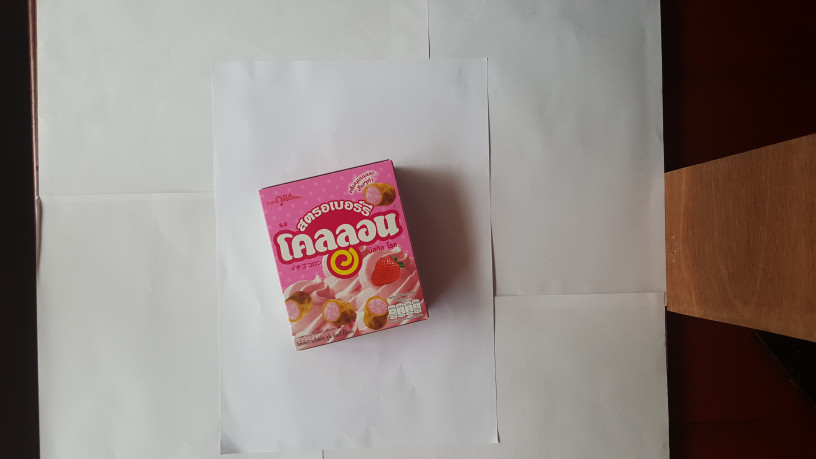collon-strawberry: (255, 159, 434, 353)
